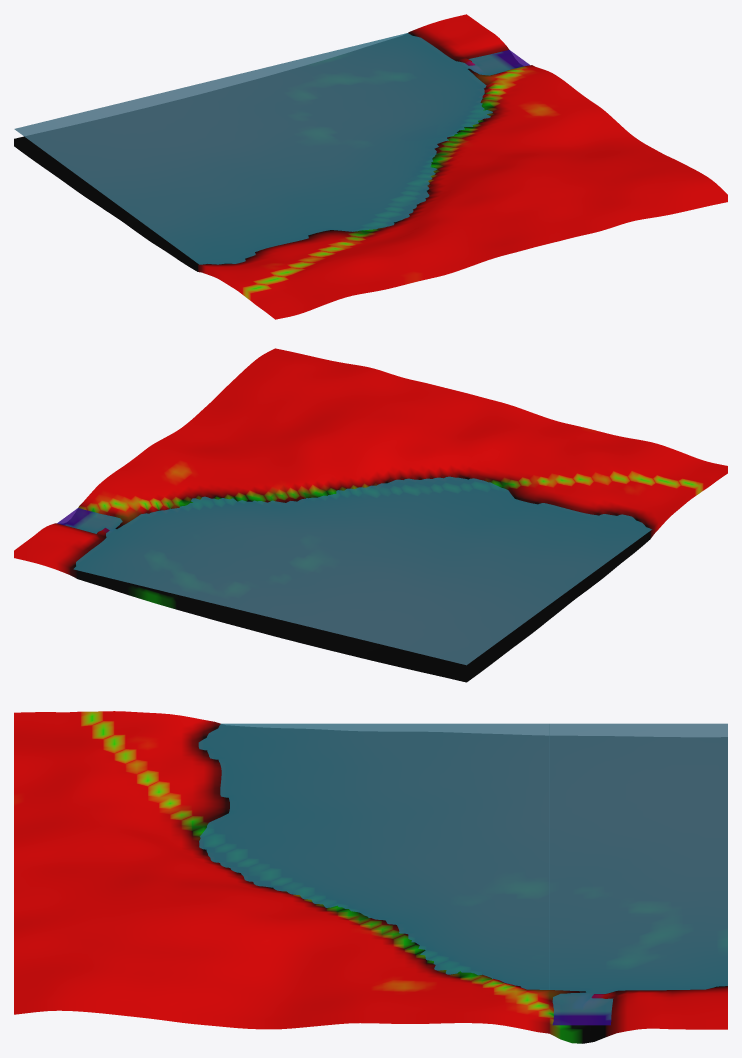
File: chunk_2_6.glb
The picture shows the model from 3 angles, top to bottom: view 1: azimuth 30°, elevation 25°; view 2: azimuth 150°, elevation 25°; view 3: azimuth 270°, elevation 25°; orthographic projection. The views are drawn at different scales.
Parts seen in each view (by area): view 1: Water, LOD0; view 2: LOD0, Water; view 3: Water, LOD0.
Part boxes in pixels (x1,y1,x2,y2): Water: (14,33,529,264); LOD0: (14,14,727,319); LOD0: (14,348,727,682); Water: (57,476,651,665); Water: (198,723,727,1025); LOD0: (14,711,727,1043).
Size of what is drawn, in the model's own units: 256 by 20.59 by 256.
